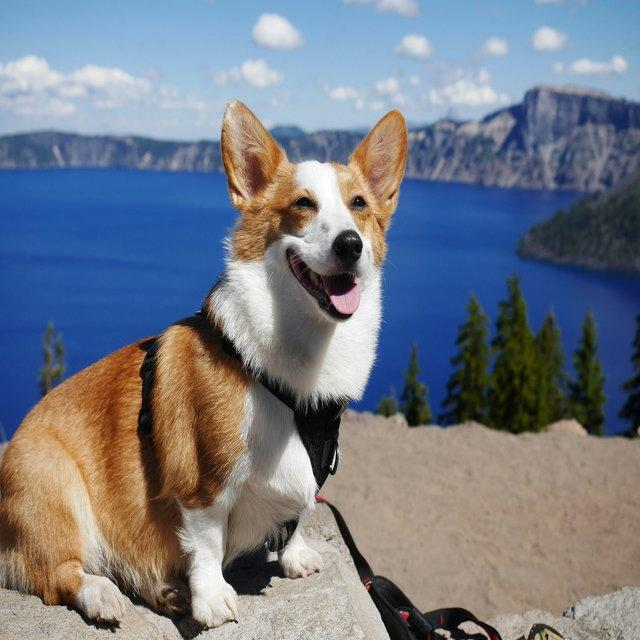corgi: (1, 98, 410, 632)
